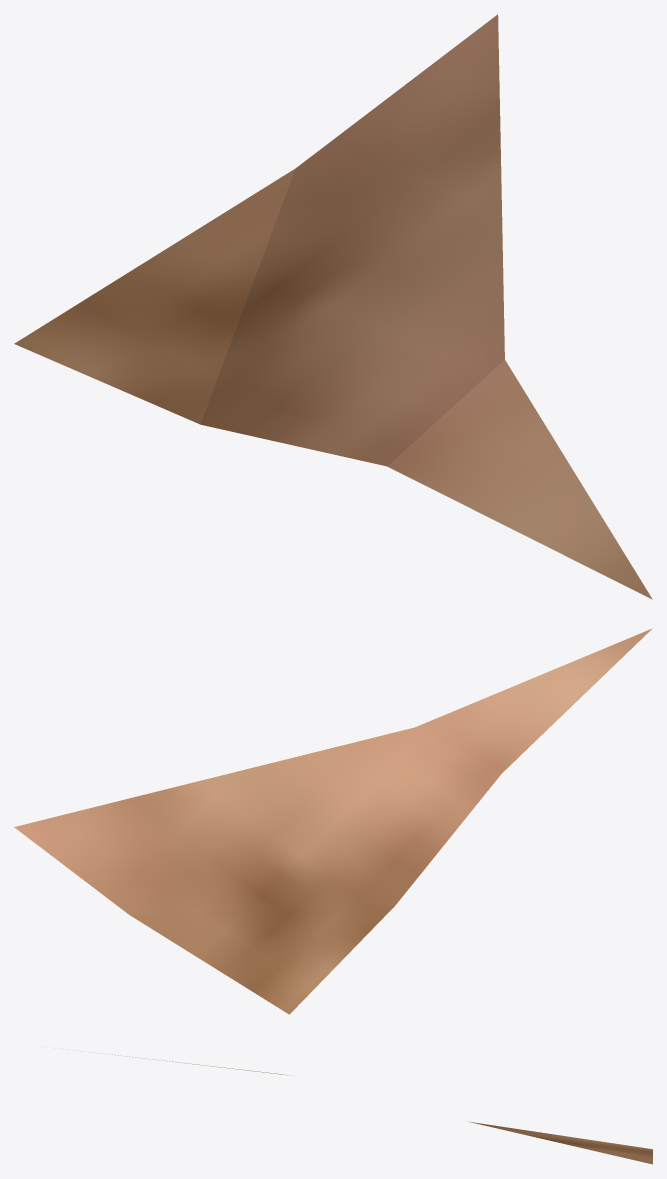
The picture shows the model from 3 angles, top to bottom: view 1: azimuth 30°, elevation 25°; view 2: azimuth 150°, elevation 25°; view 3: azimuth 270°, elevation 25°; orthographic projection. The views are drawn at different scales.
Bounding box in the file's own units: 0.036 × 0.0151 × 0.0824.
Materials: 1 (1 with a texture image).
